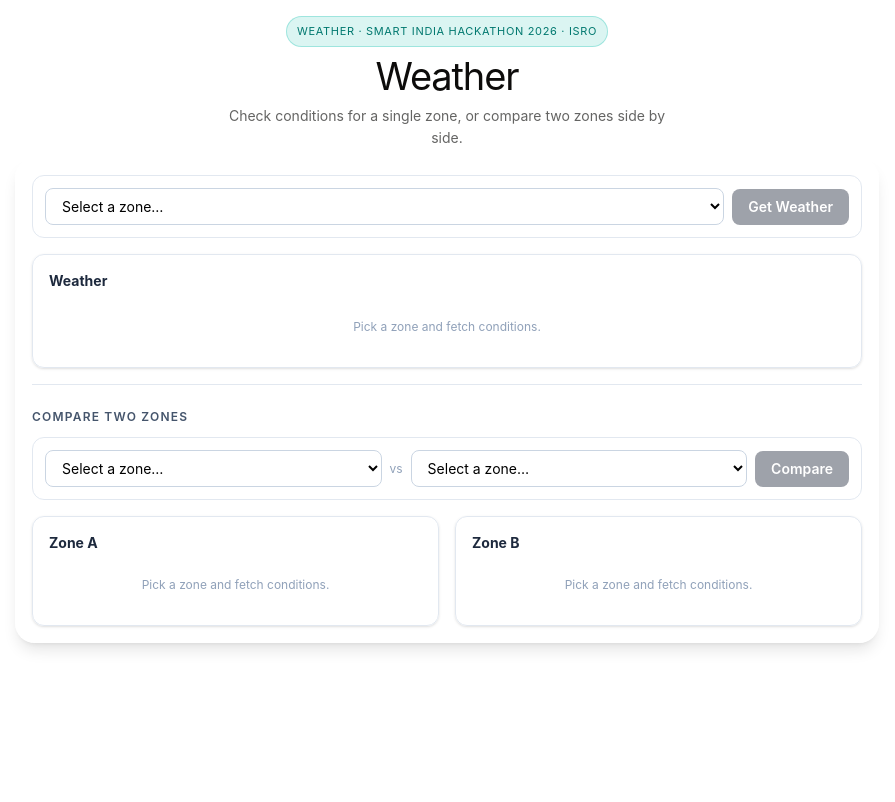
Test case: WeatherPage — fetching a single zone's conditions › is disabled until a zone is picked, then fetches and renders live conditions
The image size is (895, 802).
Expected: the button "Get Weather" is disabled, [732, 188, 849, 224]
Select "PFZ-001 — near Kochi" in the 1st dropdown at (385, 206), box [45, 188, 724, 225]
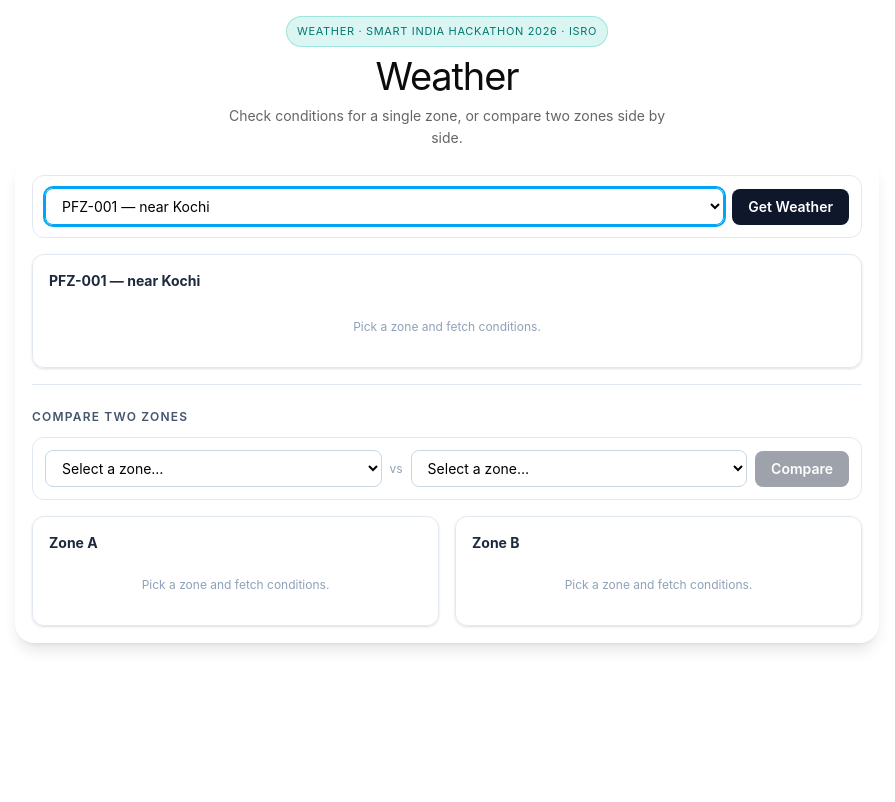
Expected: the button "Get Weather" is enabled
Click the button "Get Weather".
click(791, 206)  # box [732, 188, 849, 224]
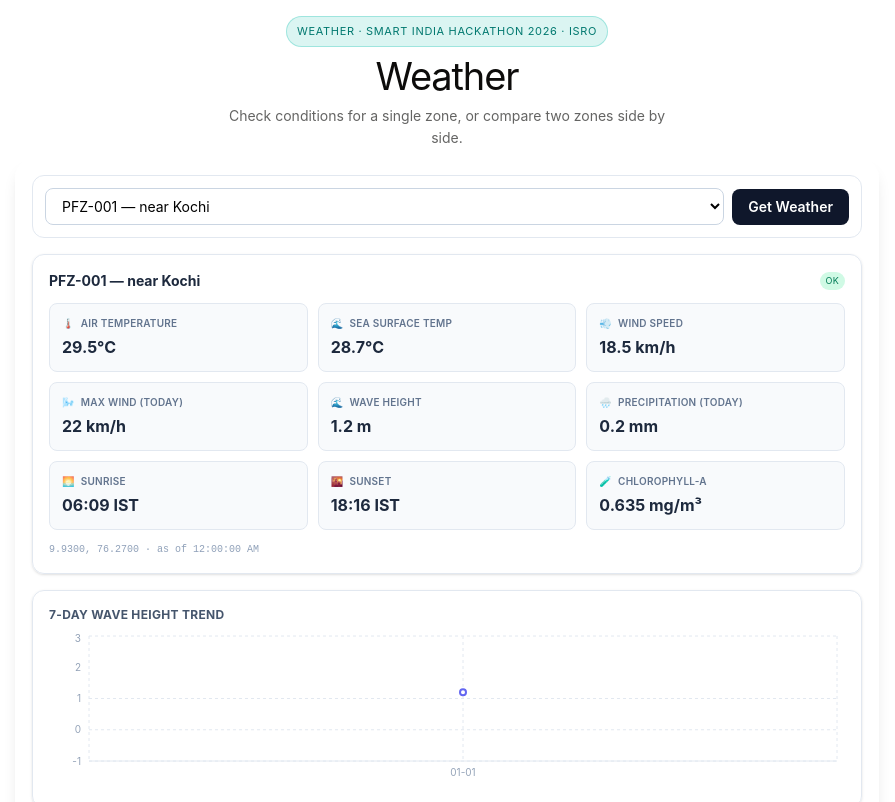
Expected: the text "18.5 km/h" is shown, [599, 337, 675, 357]
